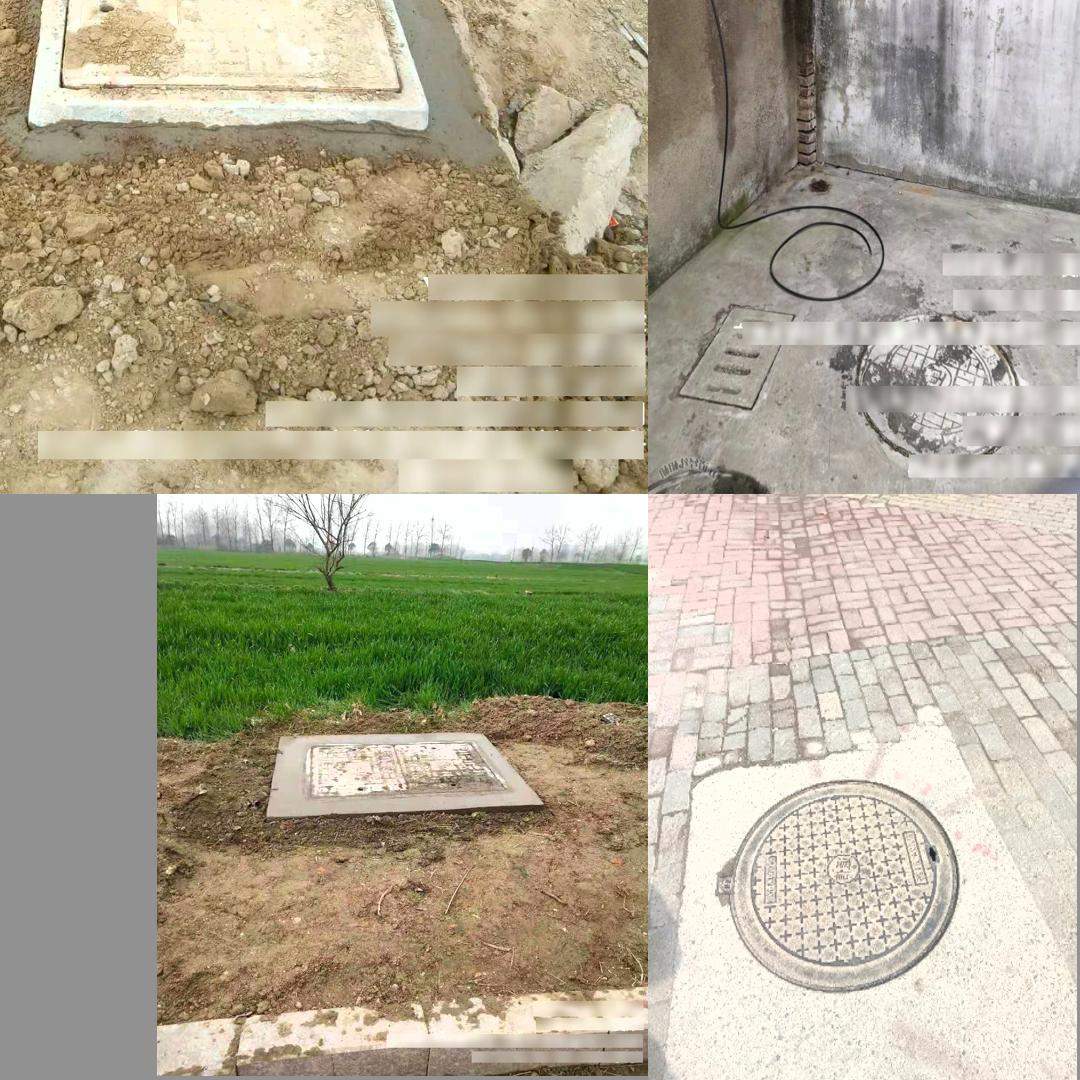good: (716, 779, 958, 992), (24, 0, 431, 126), (850, 311, 1029, 470), (265, 713, 537, 816)
